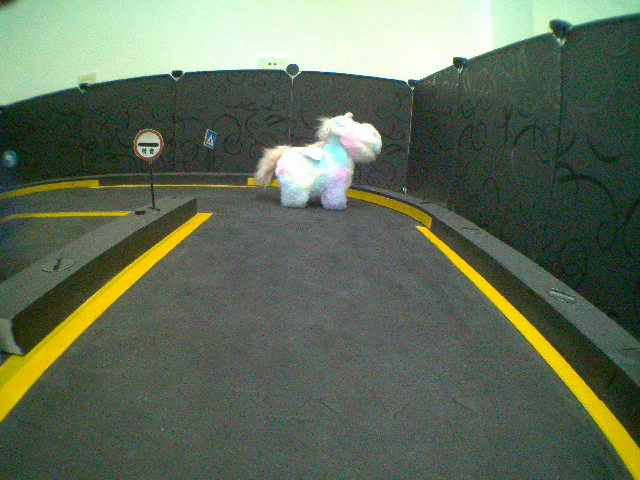unicorn: (254, 112, 385, 208)
